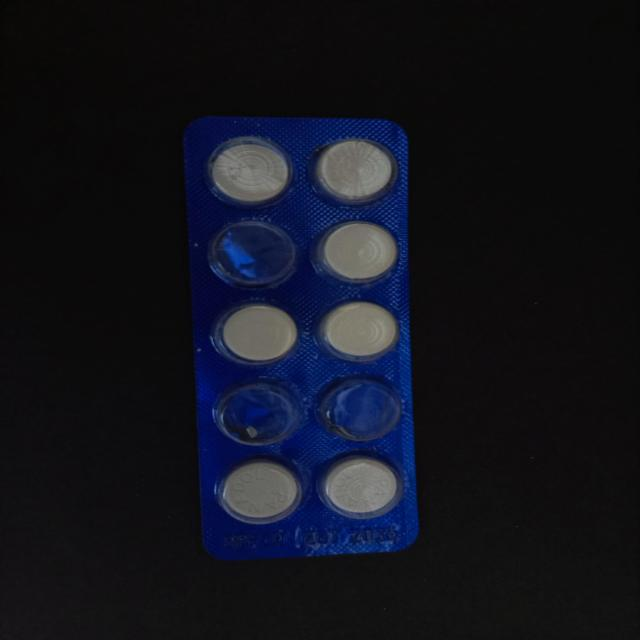defect: (202, 216, 302, 294), (208, 378, 306, 449), (313, 373, 407, 444)
